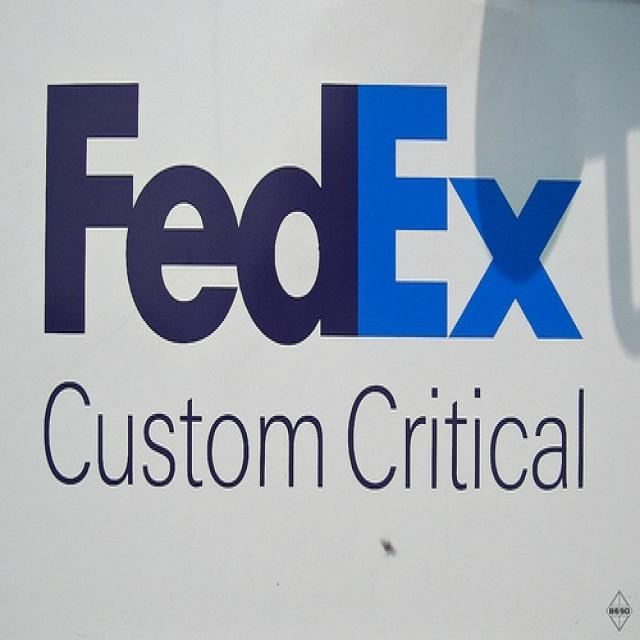fedex: (38, 74, 589, 352)
